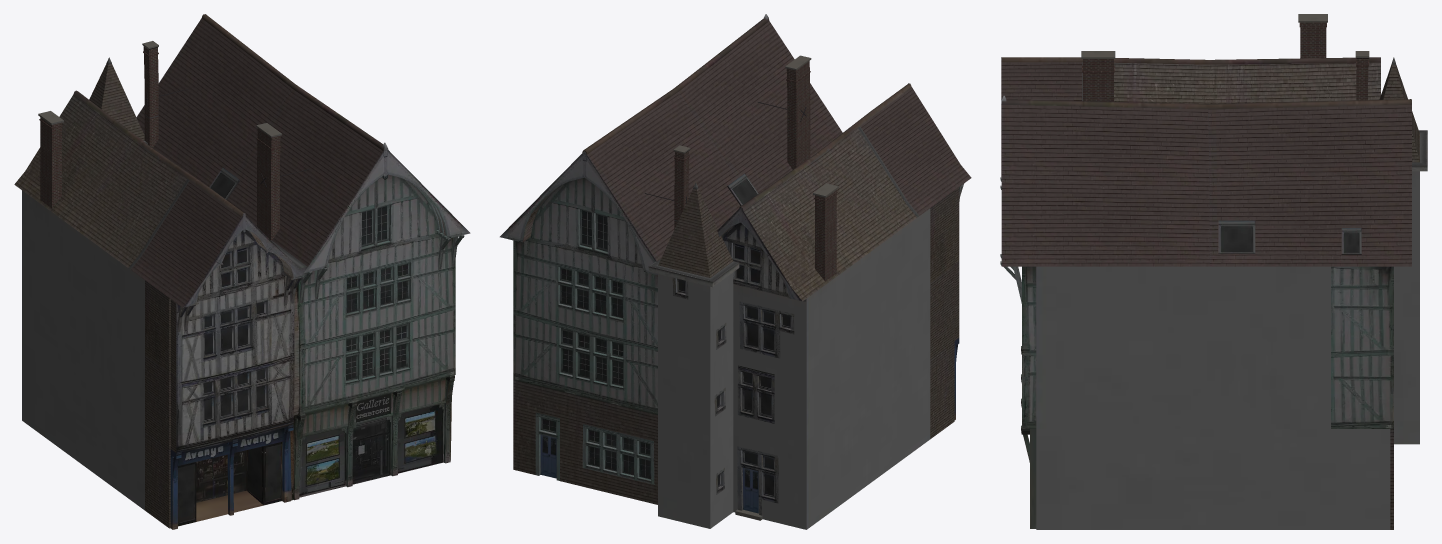
File: shop2.glb
The picture shows the model from 3 angles, left to right: view 1: azimuth 30°, elevation 25°; view 2: azimuth 150°, elevation 25°; view 3: azimuth 270°, elevation 25°; orthographic projection. The views are drawn at different scales.
Visible parts, largest first — view 1: 17_17_0; view 2: 17_17_0; view 3: 17_17_0.
Boxes of the visible parts, left/top/right/bottom form: 17_17_0: left=14, top=14, right=470, bottom=529; 17_17_0: left=500, top=14, right=971, bottom=529; 17_17_0: left=1000, top=14, right=1427, bottom=529.
Size of the model in its own units: 14.45 by 16.63 by 16.44.
Materials: 1 (1 with a texture image).
